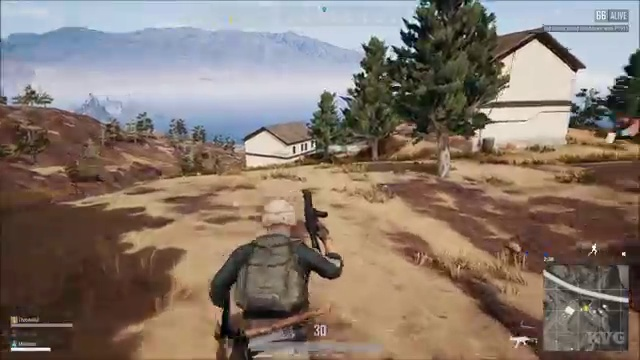Player: (218, 184, 343, 321)
